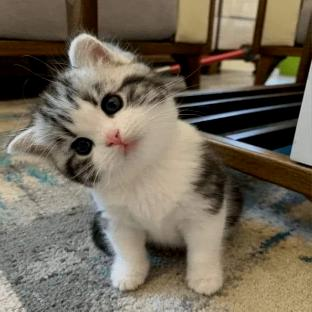Animal: (7, 33, 242, 295)
